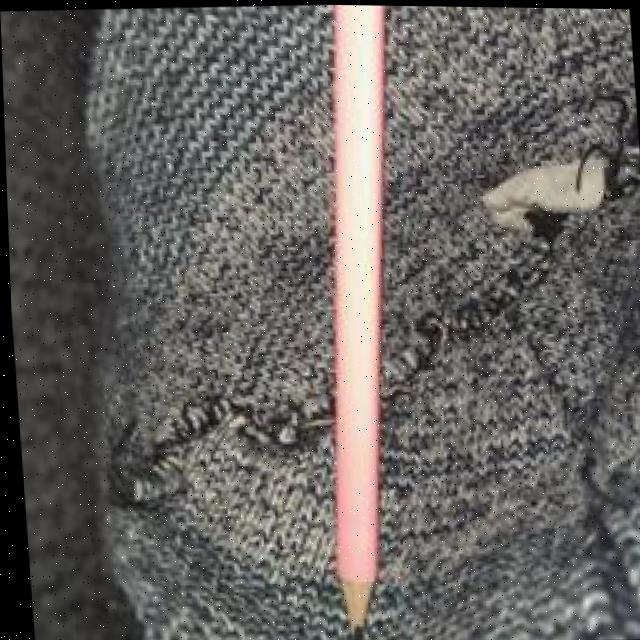pencil: (293, 3, 433, 640)
